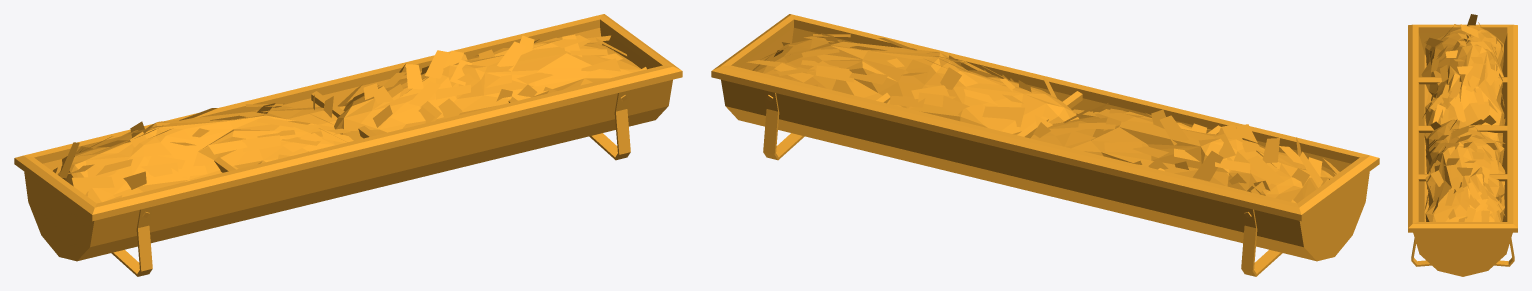
File: SM_Trough_A_Full.fbx
3 views of the same model, side by side, from view 1: azimuth 30°, elevation 25°; view 2: azimuth 150°, elevation 25°; view 3: azimuth 270°, elevation 25° (orthographic). The views are drawn at different scales.
Parts seen in each view (by area): view 1: trough-a-full; view 2: trough-a-full; view 3: trough-a-full.
Boxes of the visible parts, bbox=[...] form: trough-a-full: bbox=[14, 14, 682, 276]; trough-a-full: bbox=[711, 14, 1379, 276]; trough-a-full: bbox=[1408, 14, 1517, 276].
Bounding box in the file's own units: 2 × 0.3719 × 0.457.
